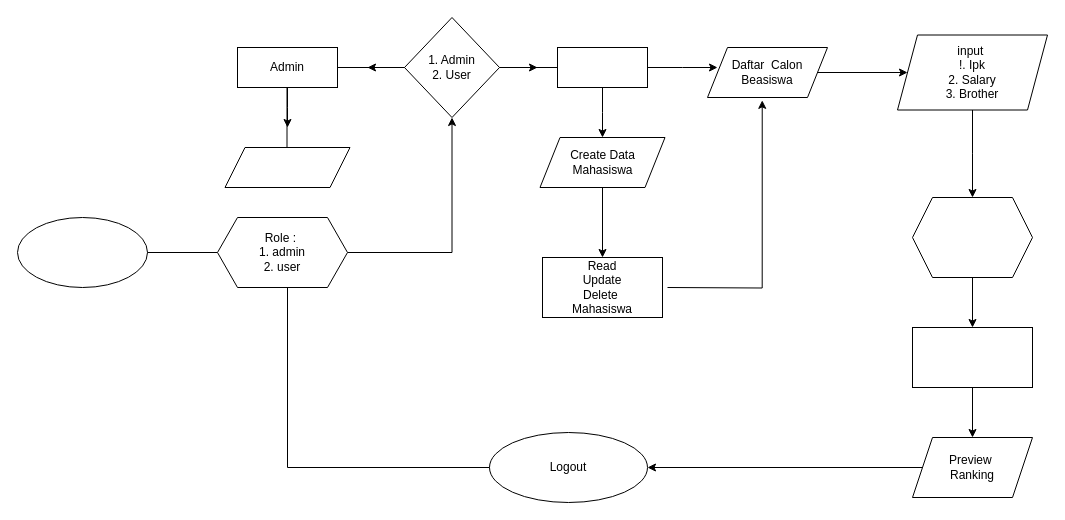
This 1065x520 diagram has some shape labels left out. Here are the shapes that lost their labels. From the top down, the centre of each, then its label:
pixel 602 67: User
pixel 287 167: Create User
pixel 82 252: SPK BEASISWA
pixel 972 237: ipk = 0.3 salary = 0.5 brother = 0.2
pixel 972 357: Normalisasi
